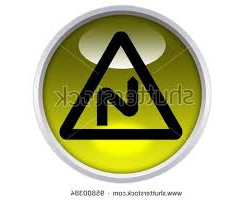Double_bend_right: (57, 30, 185, 143)
